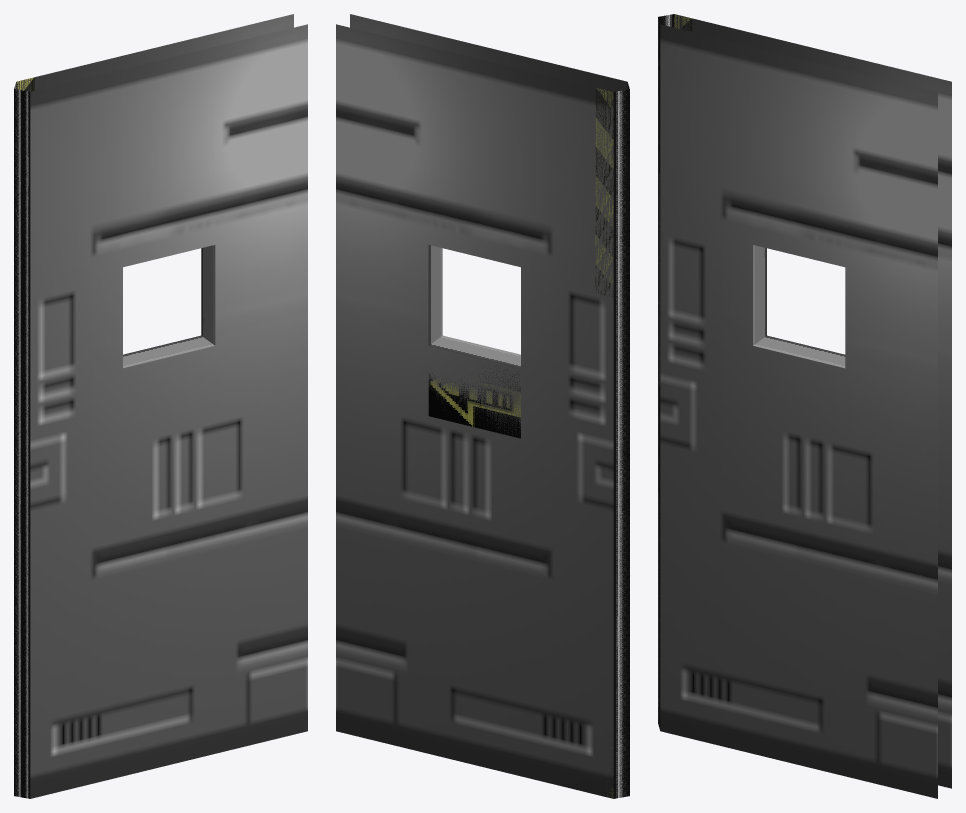
File: primary_163.glb
The picture shows the model from 3 angles, left to right: view 1: azimuth 30°, elevation 25°; view 2: azimuth 150°, elevation 25°; view 3: azimuth 330°, elevation 25°; orthographic projection.
Visible parts, largest first — view 1: Object; view 2: Object; view 3: Object.
Part boxes in pixels (x1,y1,x2,y2): Object: (14, 14, 307, 798); Object: (336, 14, 629, 798); Object: (658, 14, 951, 798).
Size of the model in its own units: 1.24 by 2.92 by 0.1049.
7 materials, 7 textured.
